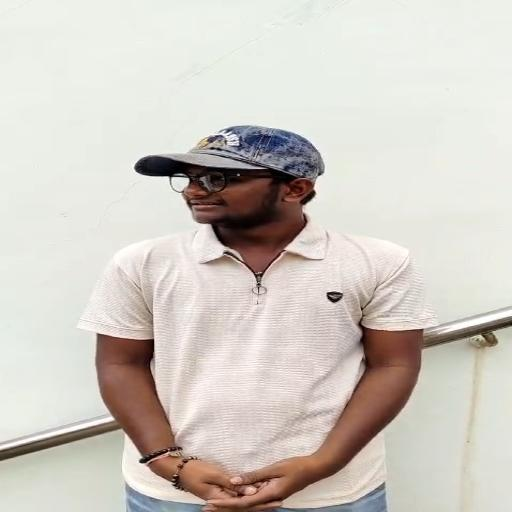employee-detectio-system: (64, 109, 450, 427)
